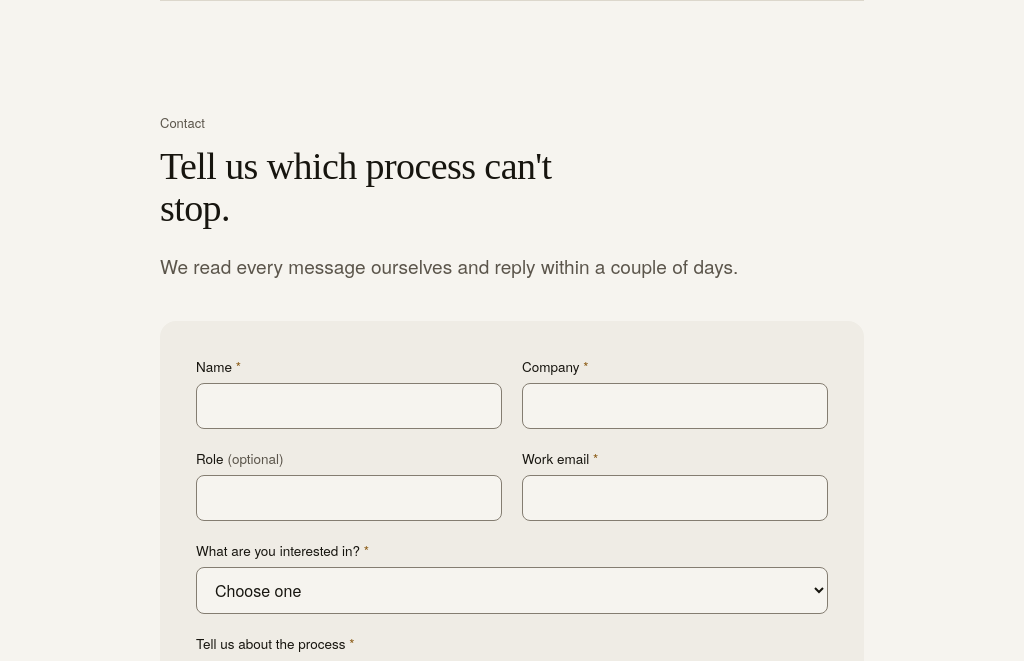
Test: Contact form delivery › reports an error when the request fails outright
The image size is (1024, 661).
Type "Ada" into the field labelled "Name *" at [349, 406], box left=196, top=383, right=502, bottom=429
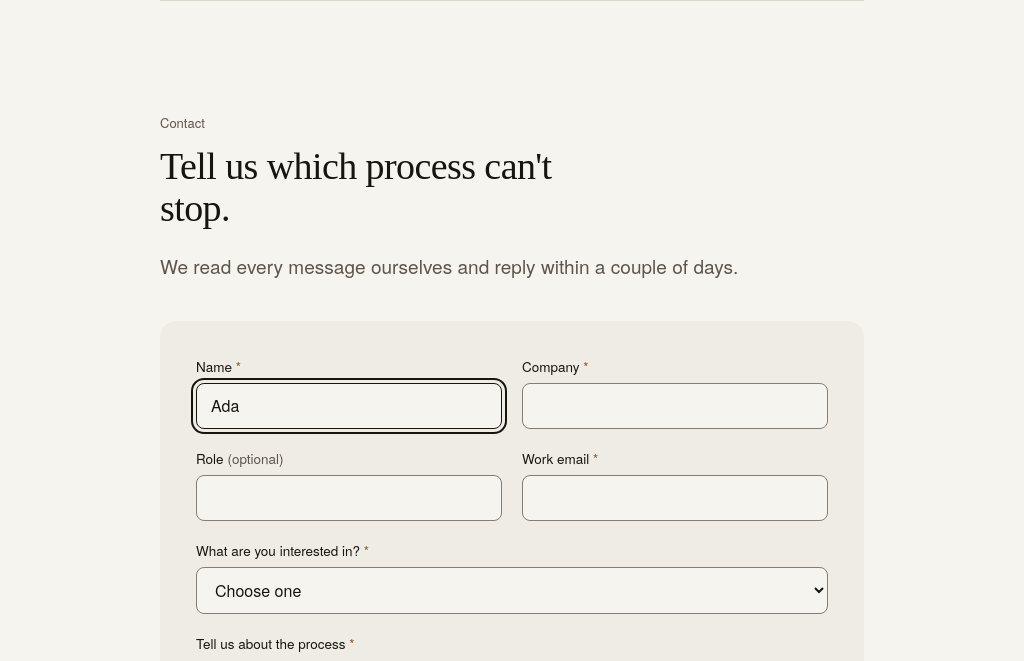
Type "Analytical Engines" into the field labelled "Company *" at [675, 406], box left=522, top=383, right=828, bottom=429
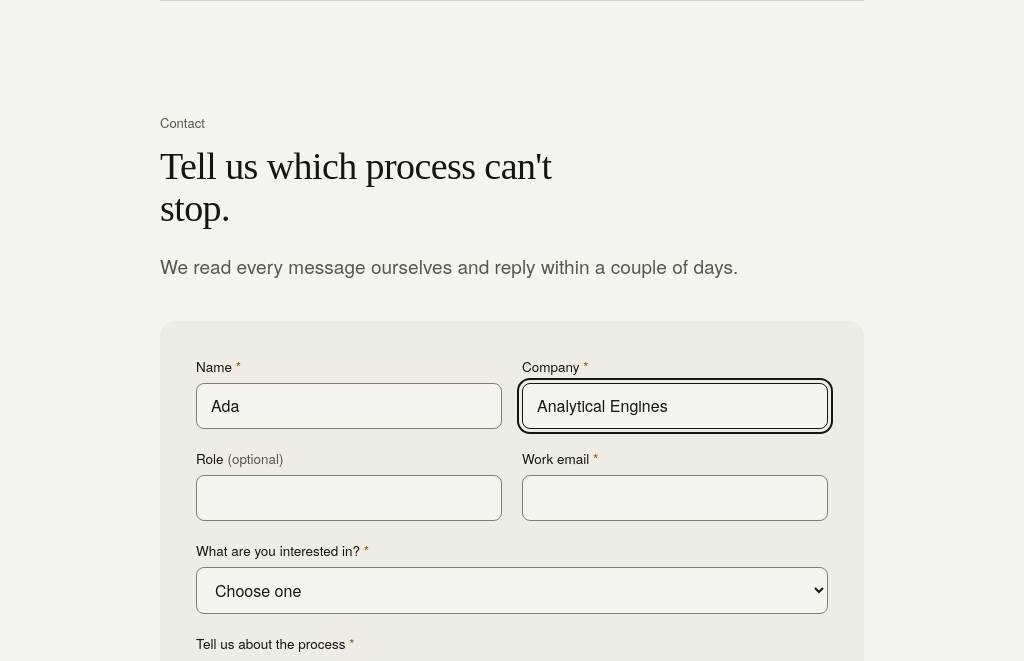
Type "ada@example.com" into the field labelled "Work email *" at [675, 498], box left=522, top=475, right=828, bottom=521
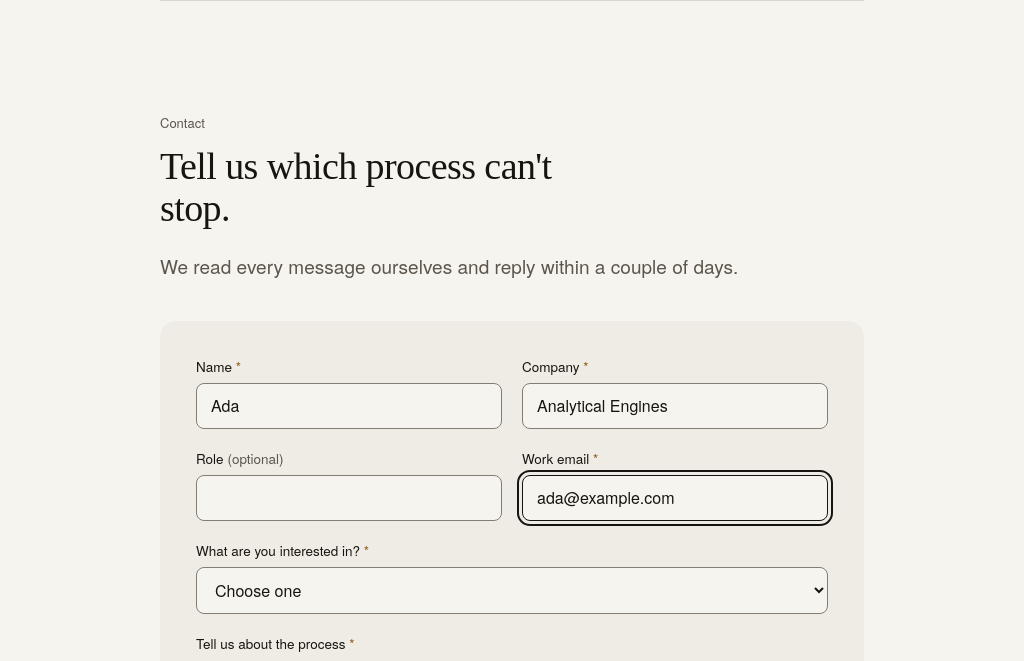
Select "Building an automation or AI agent" in the dropdown labelled "What are you interested in?" at [512, 591], box left=196, top=567, right=828, bottom=614
(page scrolled)
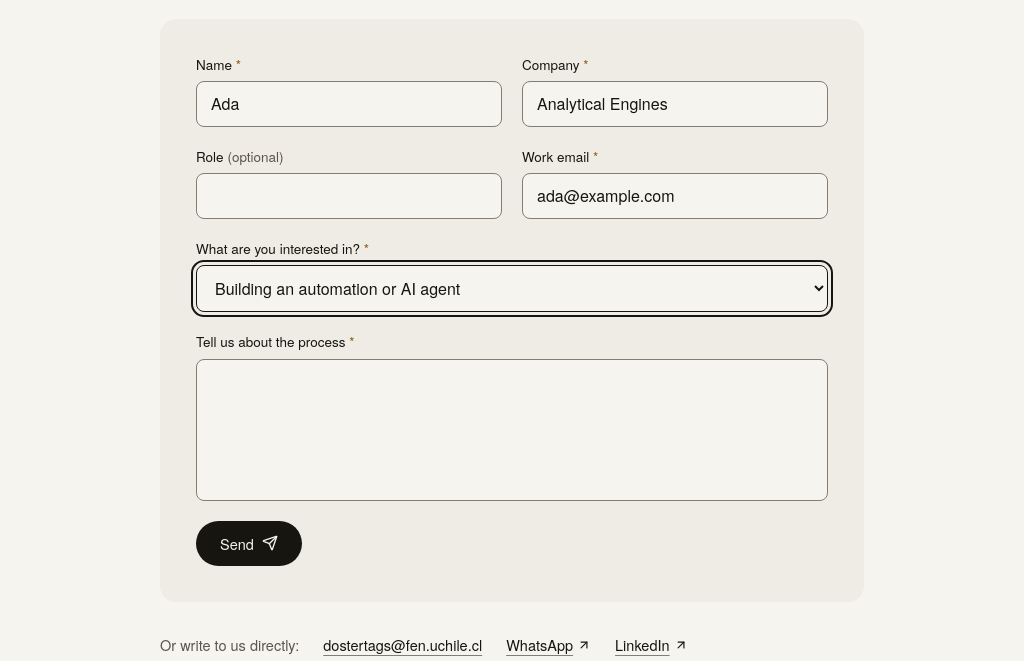
Type "A payments integration." into the text box labelled "Tell us about the process *" at [512, 430], box left=196, top=359, right=828, bottom=501
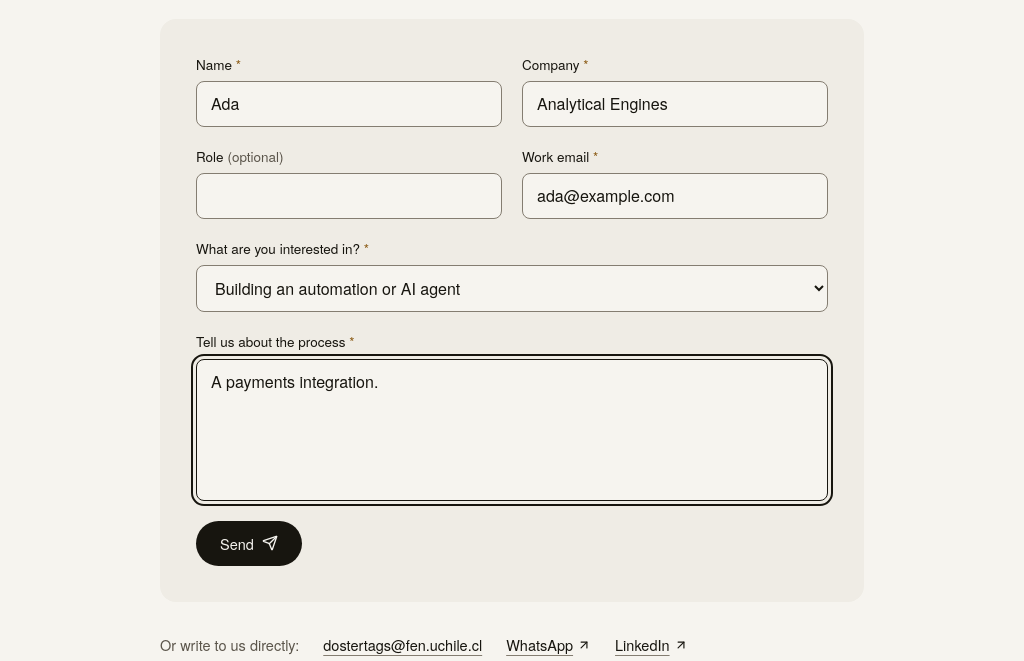
Click the button "Send" at [249, 544], box left=196, top=521, right=302, bottom=566
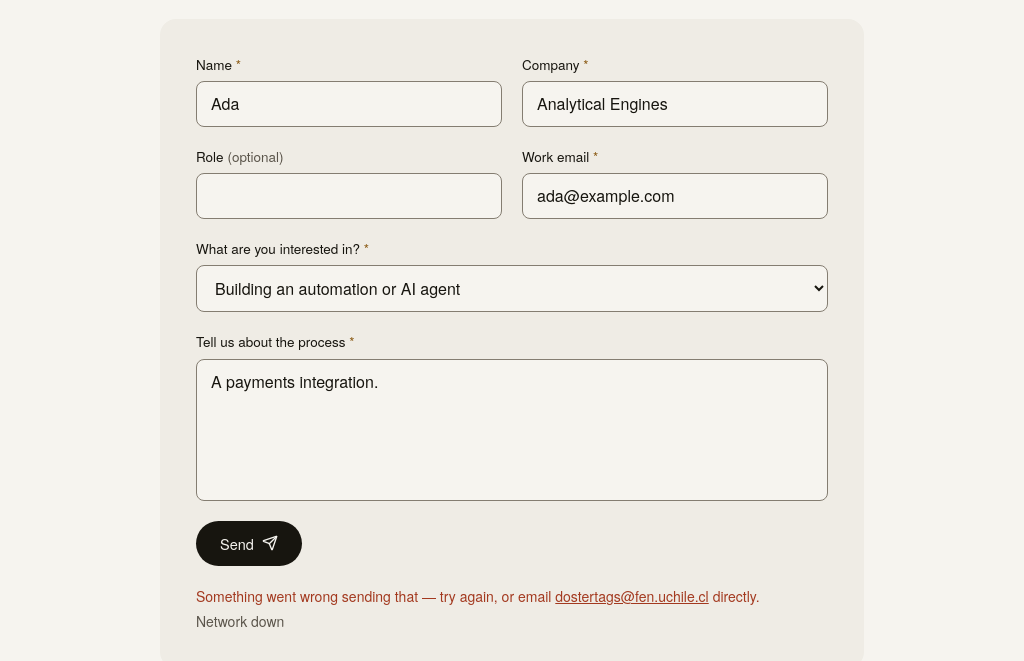
Check: the message shows "Something went wrong sending that — try again, or email", box left=196, top=586, right=551, bottom=606
